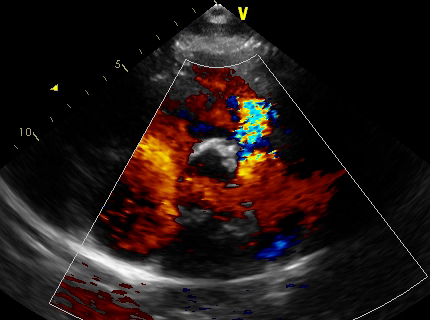PR: (236, 99, 276, 180)
